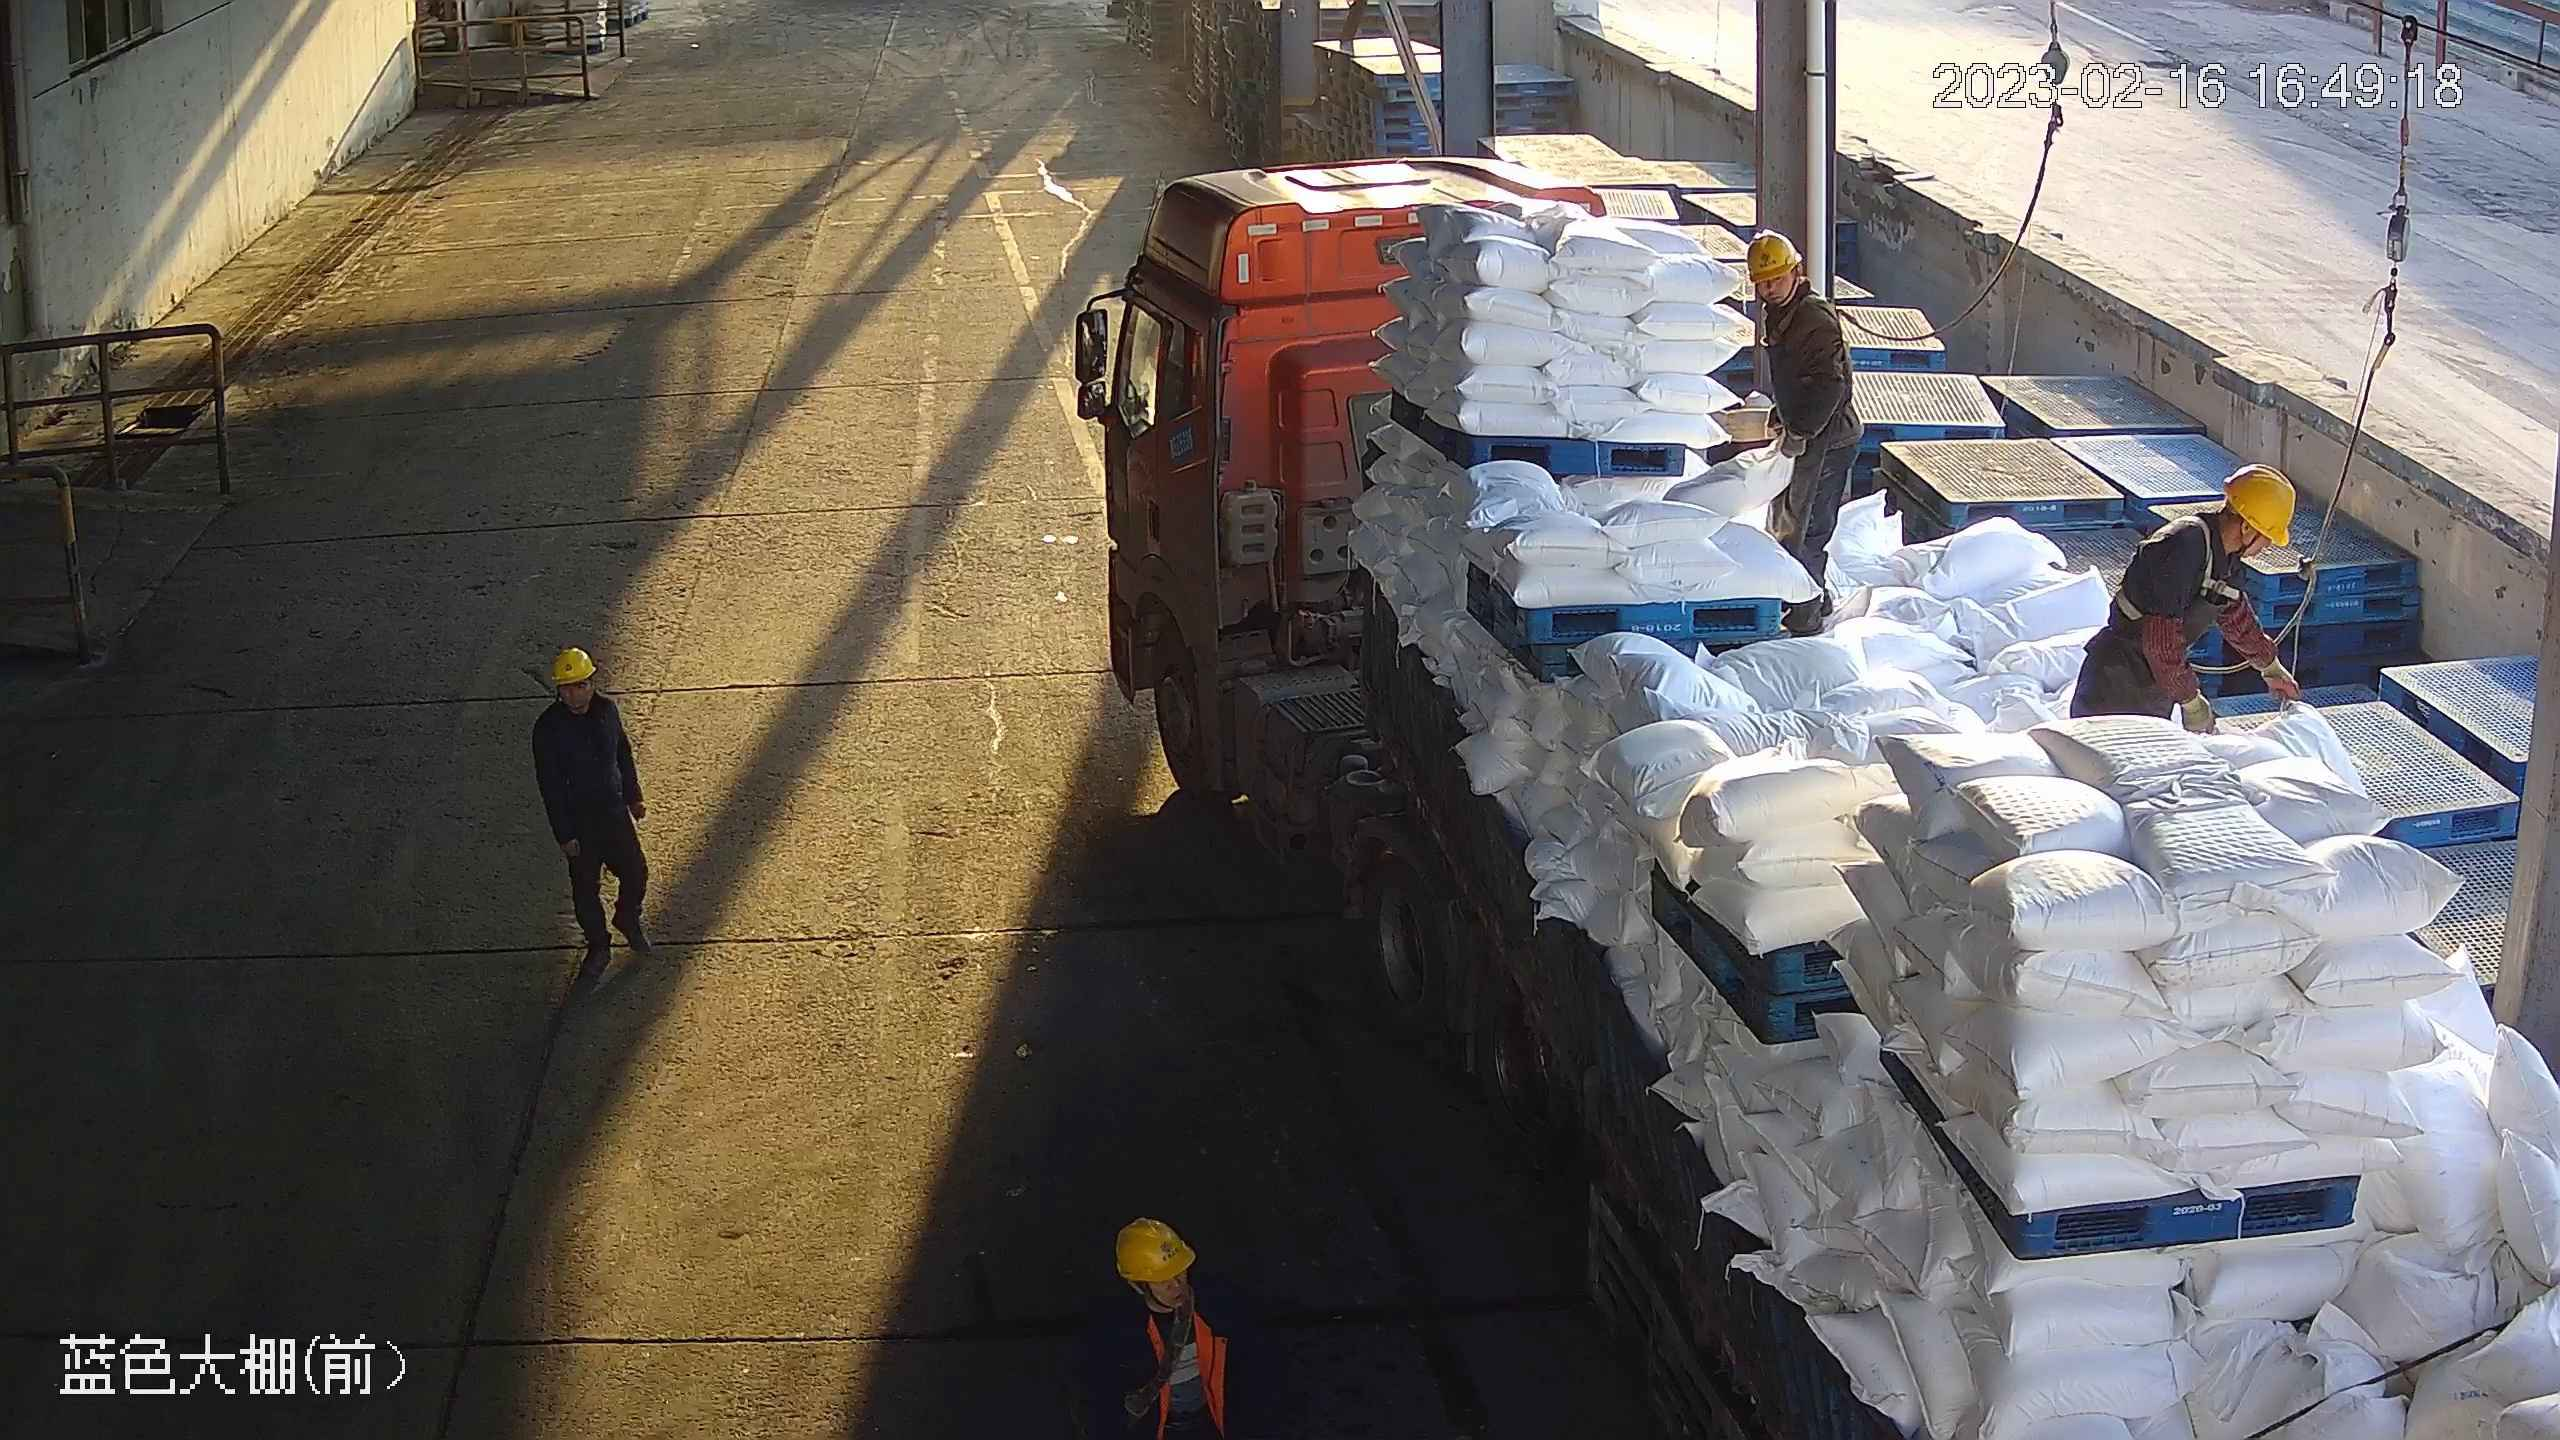belt: (2114, 513, 2239, 621), (1761, 293, 1856, 347)
head: (1084, 1217, 1246, 1371), (2144, 461, 2296, 582), (1745, 229, 1847, 351), (529, 648, 620, 742)
helmet: (2221, 460, 2296, 548), (1116, 1217, 1195, 1283), (1745, 230, 1802, 282), (552, 647, 596, 687)
people: (2069, 460, 2304, 735), (1746, 229, 1865, 642), (529, 648, 650, 980)
truck: (1074, 155, 2560, 1440)
